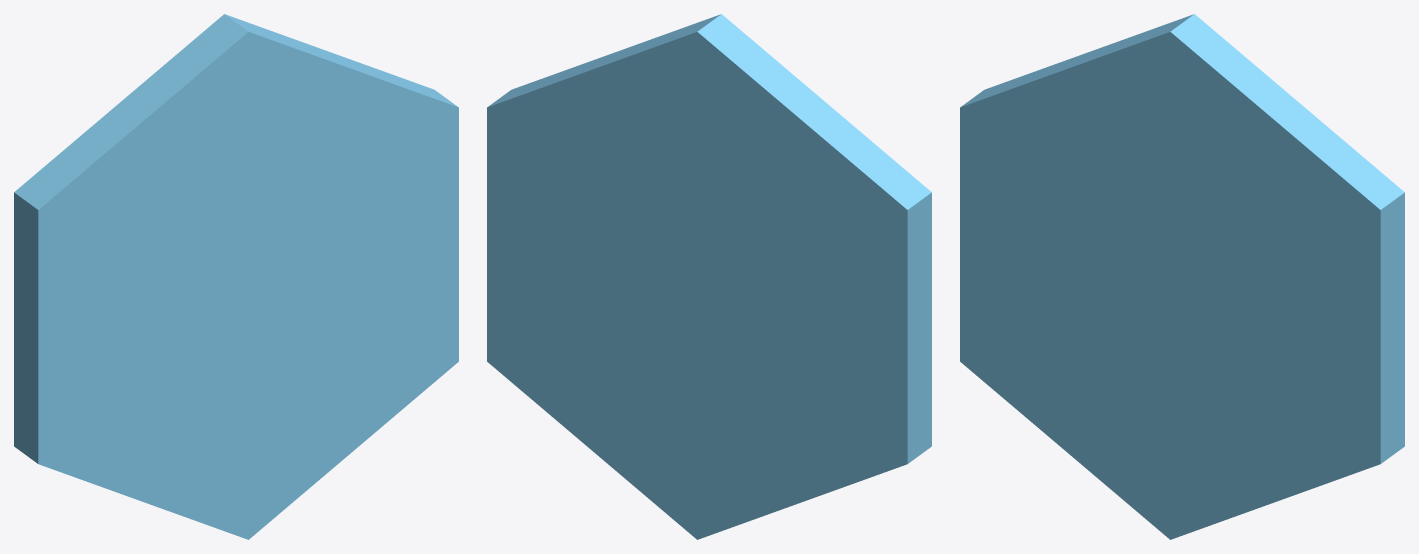
The model's file is water.obj.
3 renders of one model, left to right at view 1: azimuth 30°, elevation 25°; view 2: azimuth 150°, elevation 25°; view 3: azimuth 330°, elevation 25°, orthographic.
Parts seen in each view (by area): view 1: water.035; view 2: water.035; view 3: water.035.
Part boxes in pixels (box(x1,y1,x2,y2)): water.035: box(14, 14, 458, 539); water.035: box(487, 14, 931, 539); water.035: box(960, 14, 1404, 539).
Bounding box in the file's own units: 1 × 1.15 × 0.1.
1 material, 1 textured.
